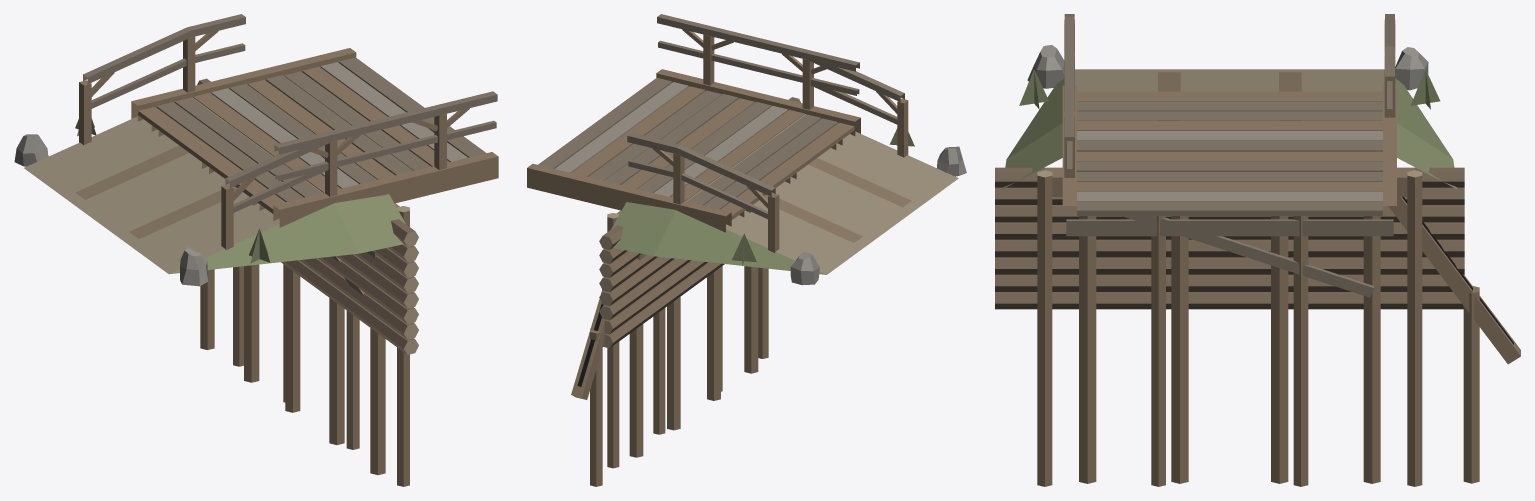
Rendered from wasser_holzbruecke.glb.
The picture shows the model from 3 angles, left to right: view 1: azimuth 30°, elevation 25°; view 2: azimuth 150°, elevation 25°; view 3: azimuth 270°, elevation 25°; orthographic projection. The views are drawn at different scales.
Parts seen in each view (by area): view 1: Holz_Ende, Holz_Joch, Holz_Gelaender; view 2: Holz_Ende, Holz_Joch, Holz_Gelaender; view 3: Holz_Joch, Holz_Ende, Holz_Gelaender.
Part boxes in pixels (box(x1,y1,x2,y2)): Holz_Ende: box(14, 14, 418, 486); Holz_Joch: box(131, 48, 498, 475); Holz_Gelaender: box(274, 91, 497, 181); Holz_Ende: box(599, 38, 966, 468); Holz_Joch: box(527, 69, 860, 486); Holz_Gelaender: box(657, 14, 859, 95); Holz_Joch: box(1045, 85, 1520, 483); Holz_Ende: box(995, 14, 1464, 486); Holz_Gelaender: box(1064, 16, 1074, 177).
Bounding box in the file's own units: 6 × 6.25 × 7.39.
